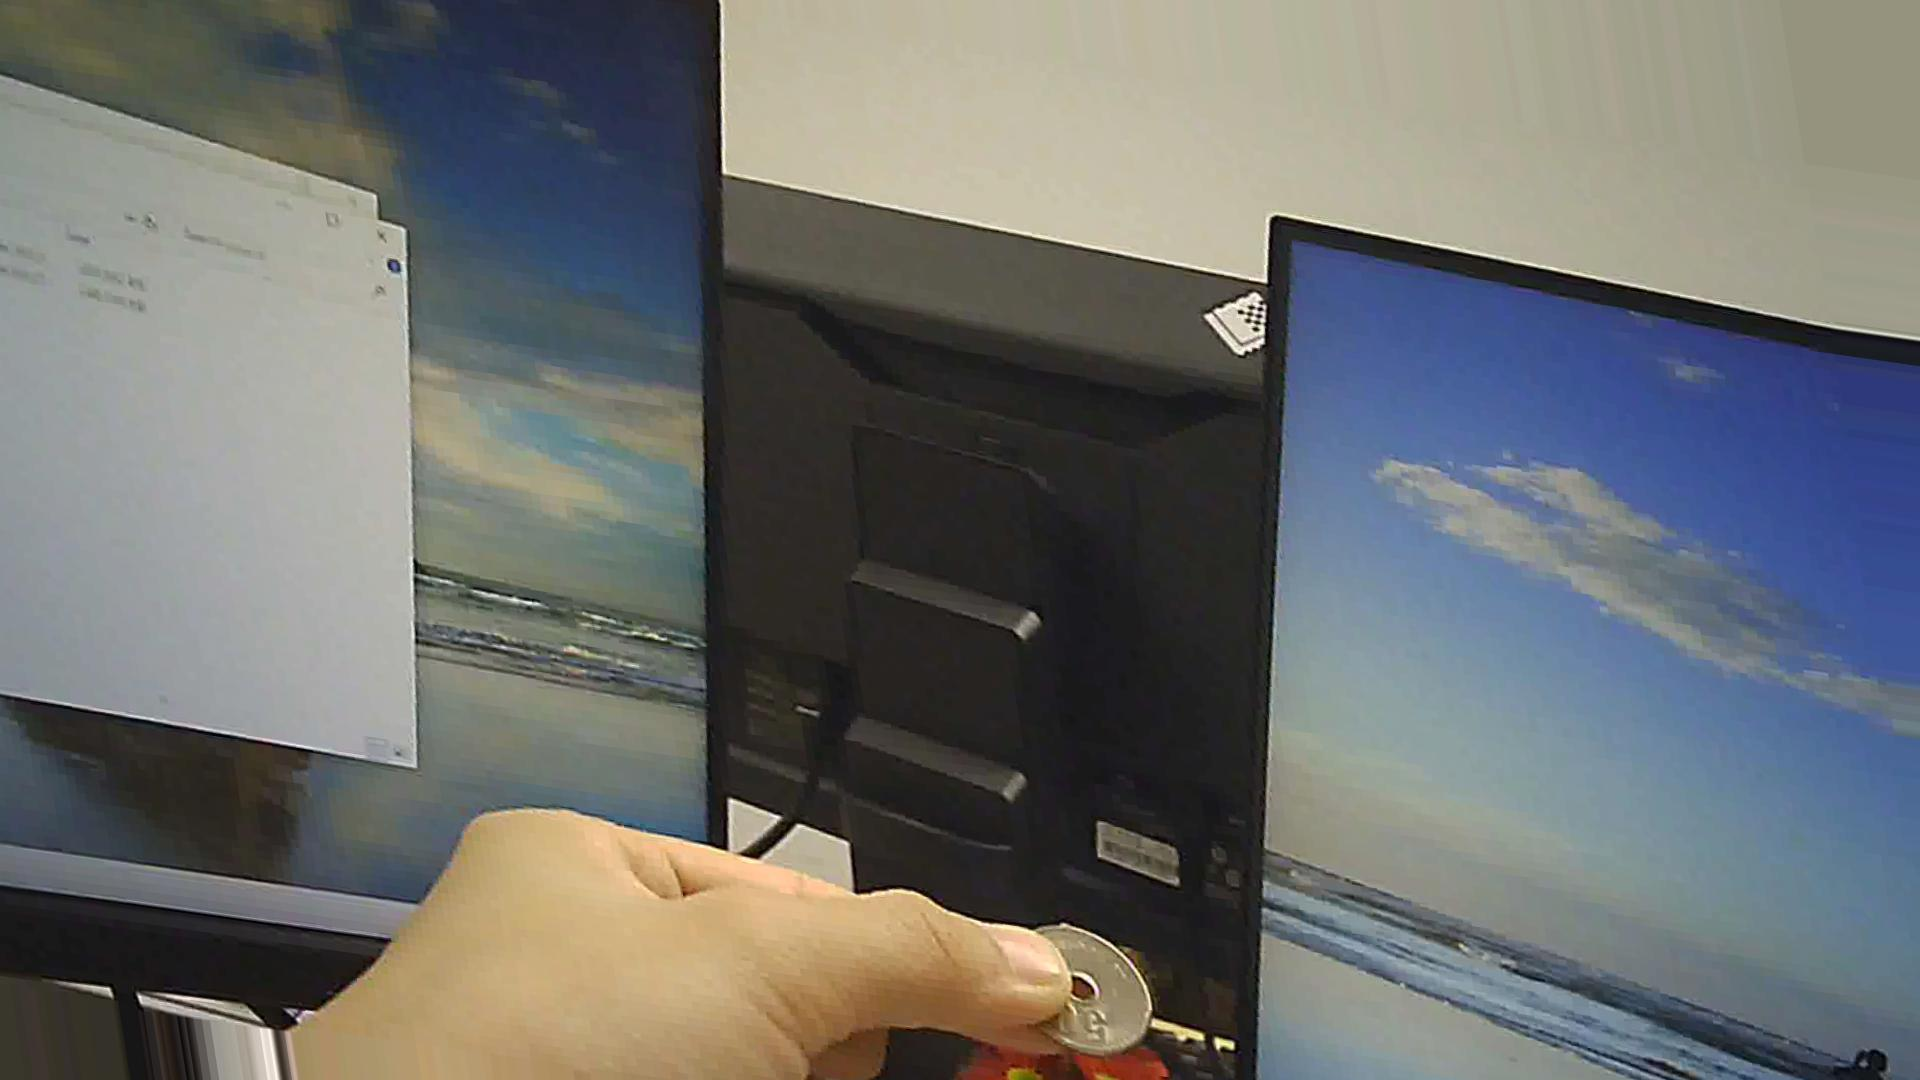50 Yen: (1006, 927, 1160, 1058)
